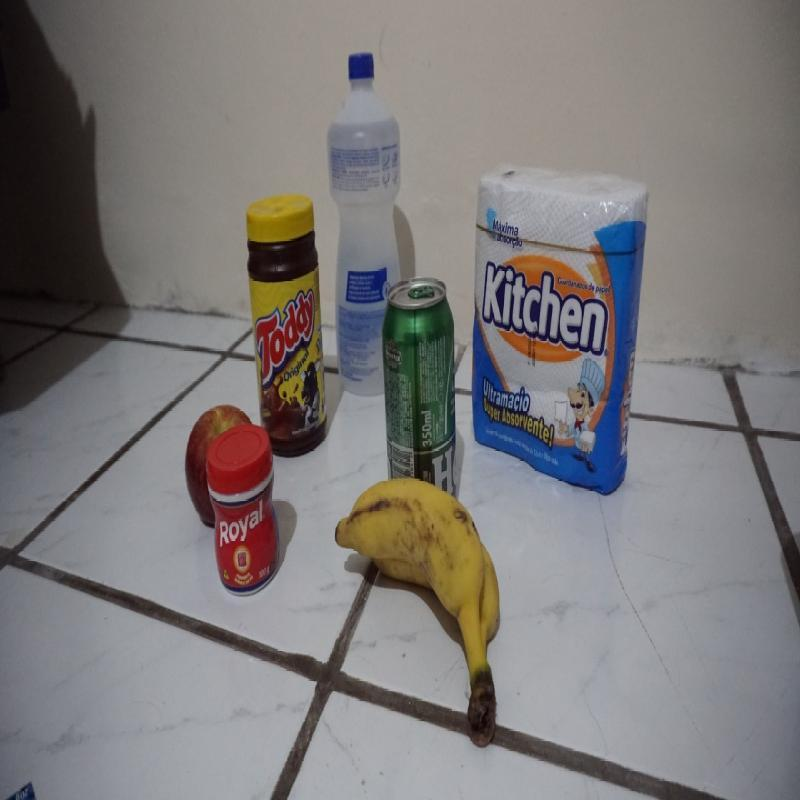Alcohol Bottle: (327, 53, 403, 391)
Apple: (186, 404, 256, 530)
Banana: (337, 478, 504, 748)
Beer can: (382, 277, 459, 499)
Chocolate Powder: (247, 194, 328, 457)
Napkin: (476, 163, 648, 494)
Yeast: (206, 428, 280, 594)
